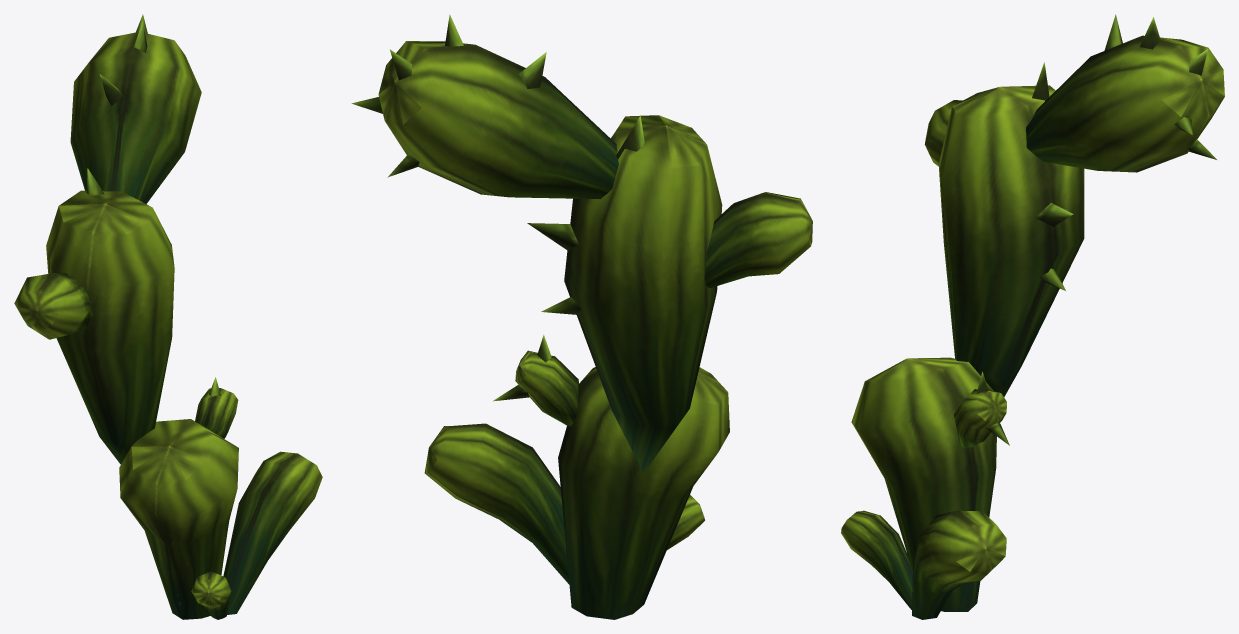
Rendered from xianrenzhang01.FBX.
3 renders of one model, left to right at view 1: azimuth 30°, elevation 25°; view 2: azimuth 150°, elevation 25°; view 3: azimuth 270°, elevation 25°, orthographic. The views are drawn at different scales.
Parts seen in each view (by area): view 1: xianrenzhang01; view 2: xianrenzhang01; view 3: xianrenzhang01.
Part boxes in pixels (box(x1,y1,x2,y2)): xianrenzhang01: box(14, 14, 322, 619); xianrenzhang01: box(351, 14, 812, 619); xianrenzhang01: box(841, 14, 1224, 619).
Size of the model in its own units: 96.47 by 160 by 92.12.
